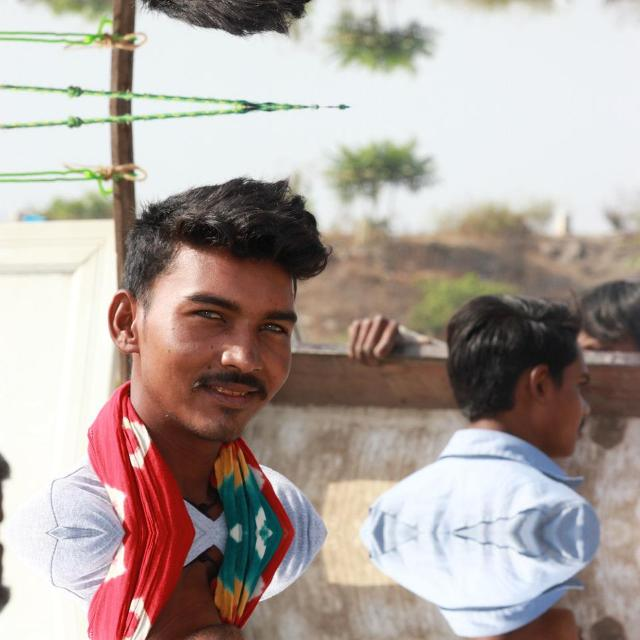person: (71, 146, 319, 452), (71, 0, 319, 66), (71, 613, 319, 640)
